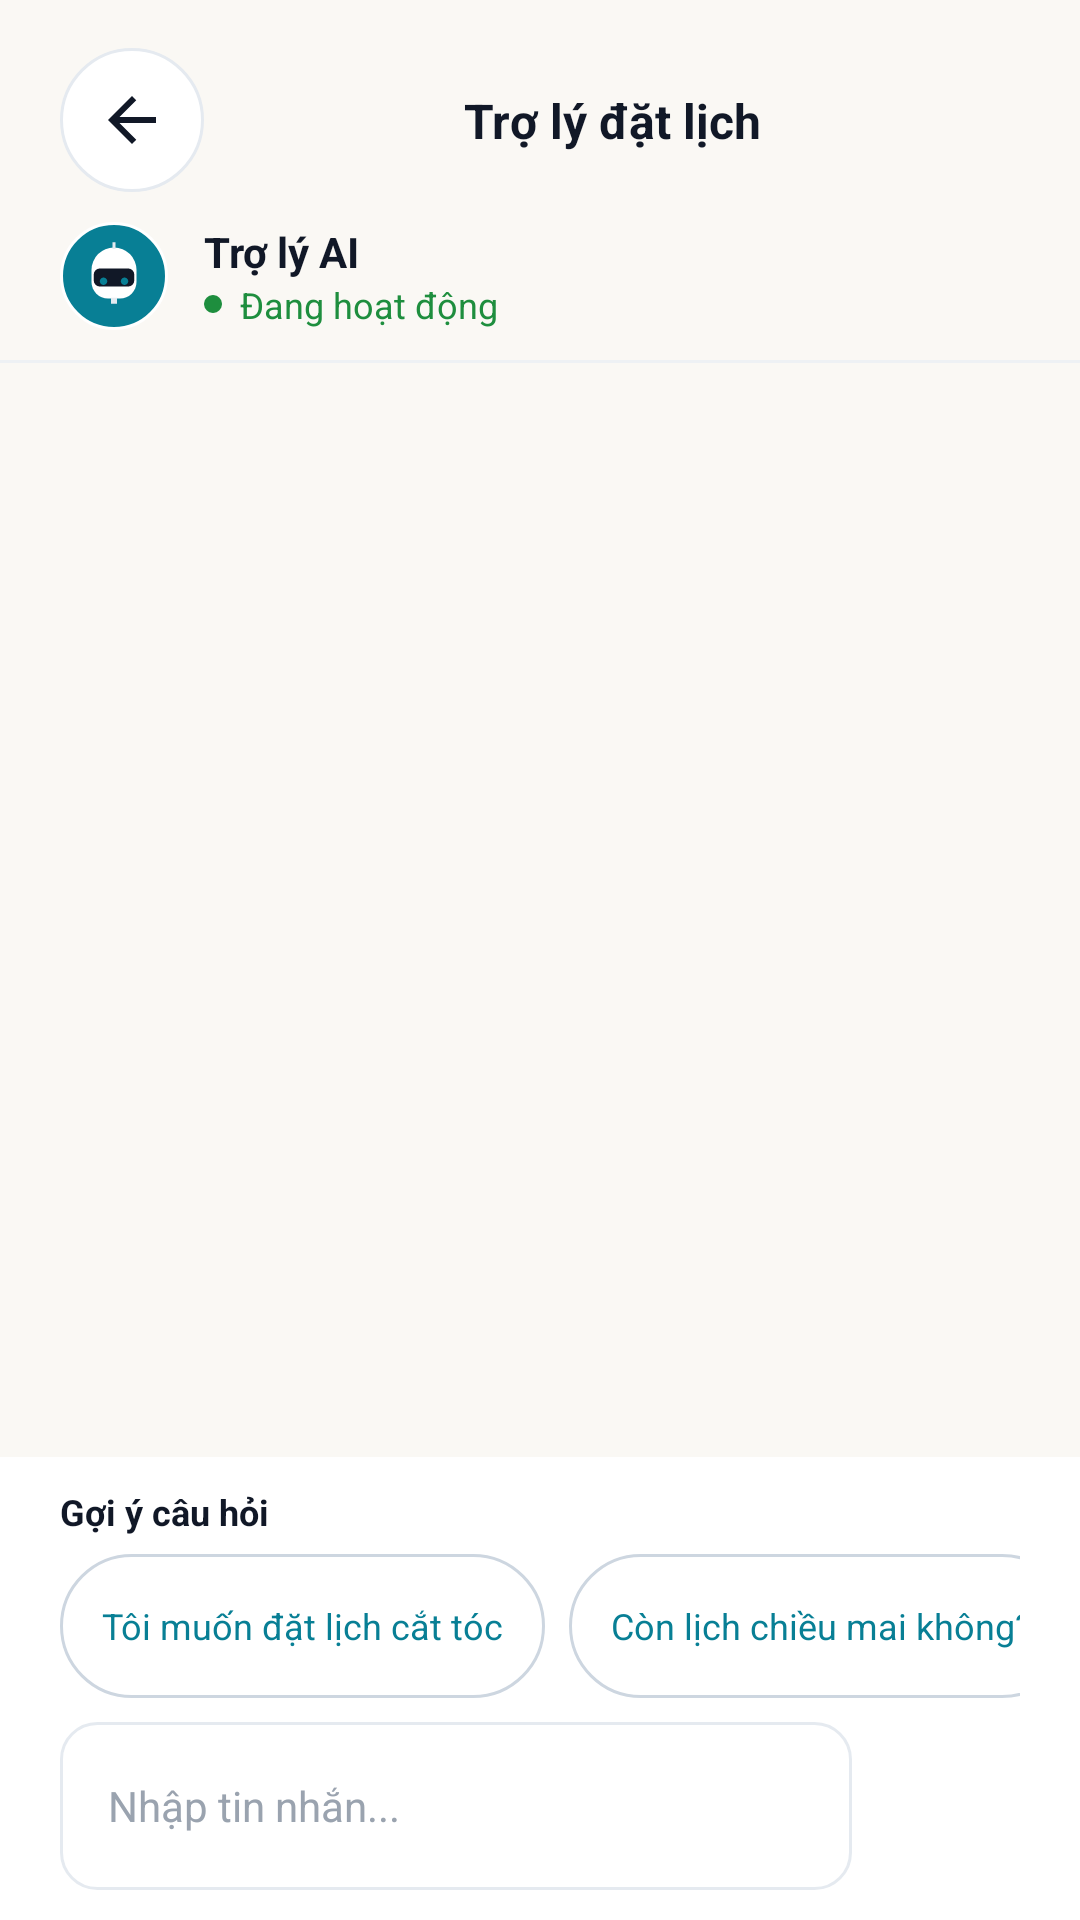

Icons on this 1080 x 1920 Android screen, each with its box as (x1, y1, x2, y2):
Back: (60, 48, 204, 192)
